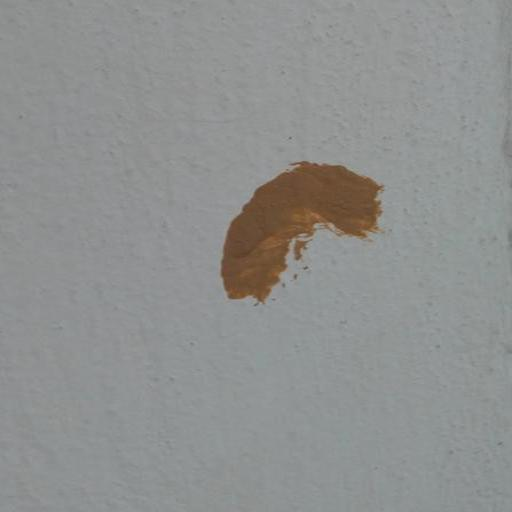stain: (151, 116, 411, 426)
